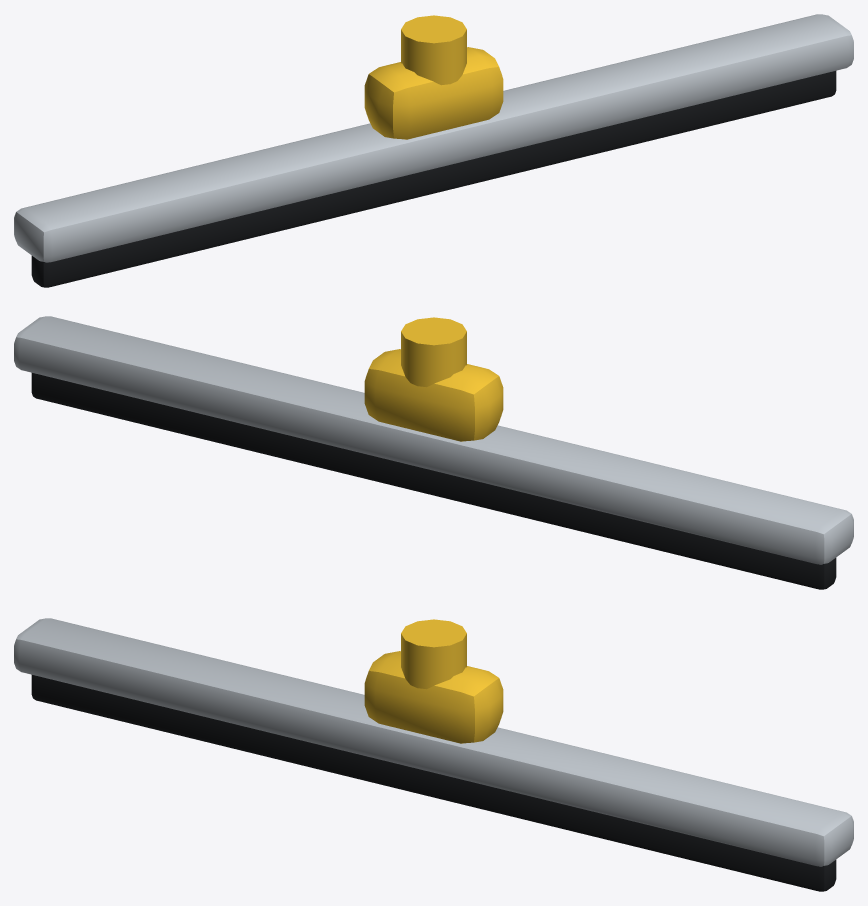
Rendered from squeegee_head.fbx.
3 views of the same model, one above another, from view 1: azimuth 30°, elevation 25°; view 2: azimuth 150°, elevation 25°; view 3: azimuth 330°, elevation 25° (orthographic).
Visible parts, largest first — view 1: squeegee_head; view 2: squeegee_head; view 3: squeegee_head.
Part boxes in pixels (bbox=[...]): squeegee_head: bbox=[14, 14, 853, 287]; squeegee_head: bbox=[14, 316, 853, 589]; squeegee_head: bbox=[14, 618, 853, 891].
Bounding box in the file's own units: 0.4 × 0.075 × 0.03.
